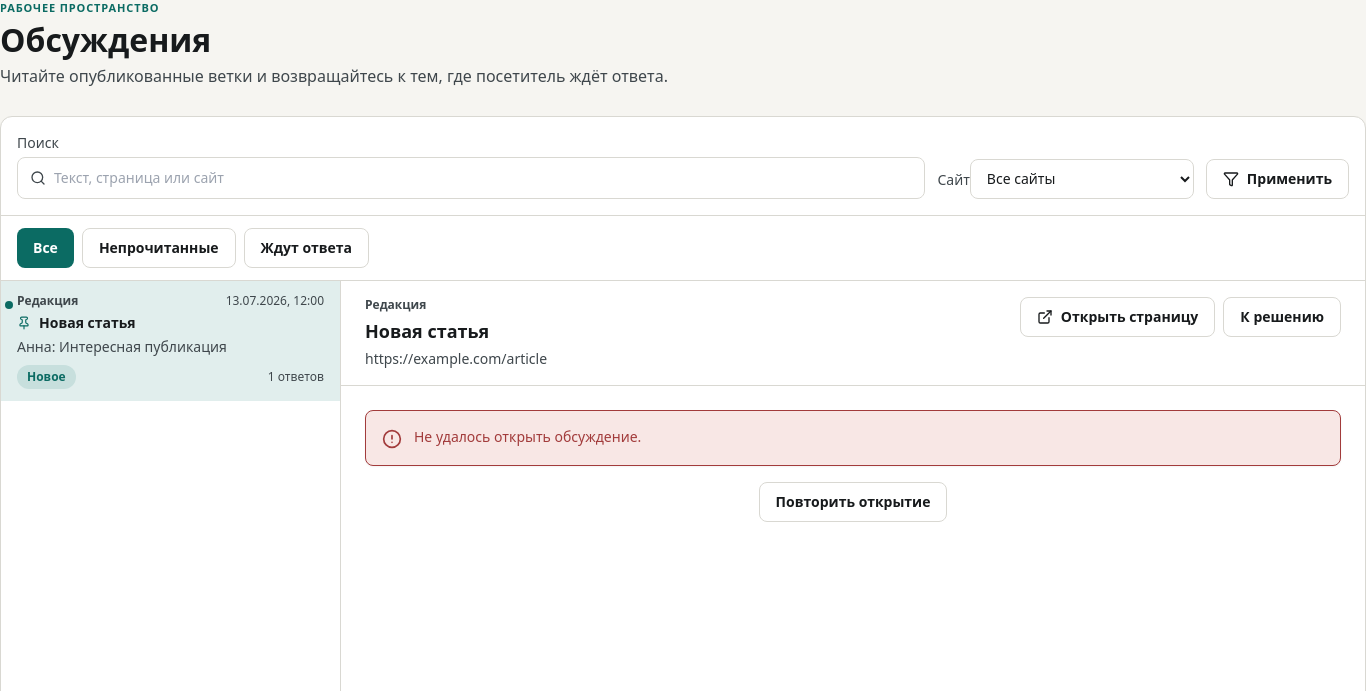
страница обсуждений › сохраняет список при независимой ошибке detail и повторяет только открытие
The image size is (1366, 691).
Expected: the text "Не удалось открыть обсуждение." is shown, [414,427,641,447]
Expected: the text "Интересная публикация" is shown, [59,337,227,356]
Click the button "Повторить открытие": click(853, 502) [758,482,947,522]
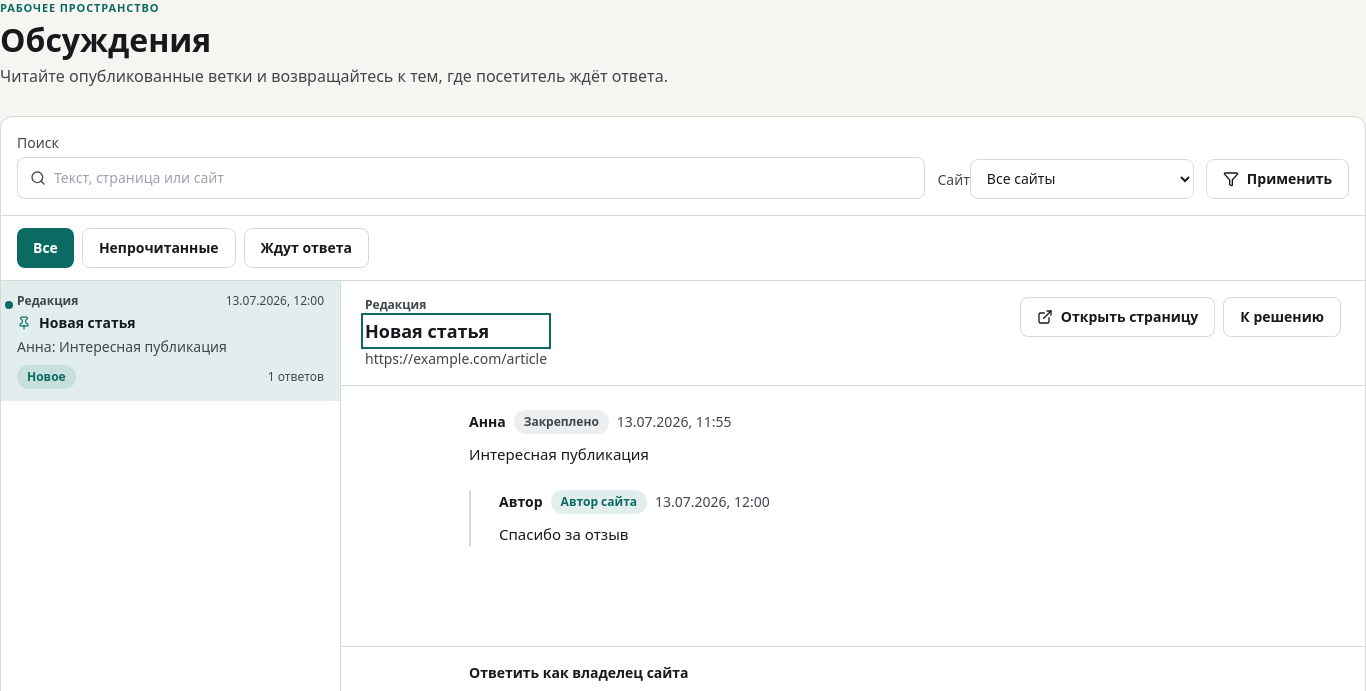
Expected: the text "Спасибо за отзыв" is shown, [499,524,628,544]
